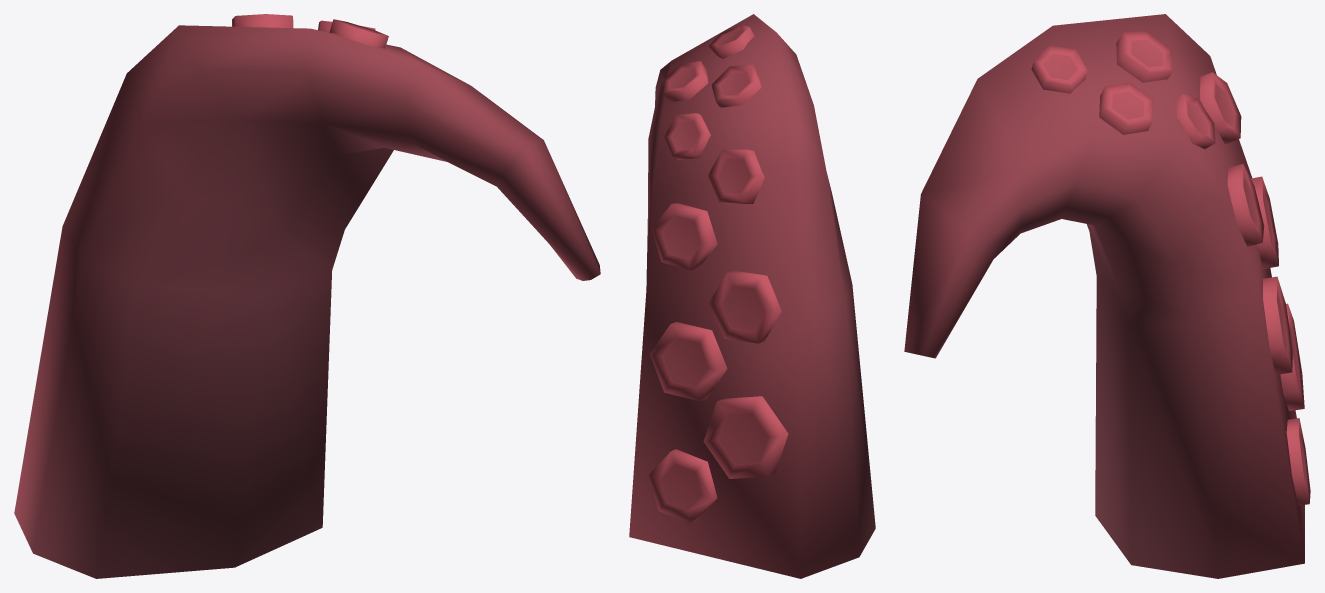
The model's file is OctopusTentacle.fbx.
3 views of the same model, side by side, from view 1: azimuth 30°, elevation 25°; view 2: azimuth 150°, elevation 25°; view 3: azimuth 270°, elevation 25° (orthographic). The views are drawn at different scales.
Visible parts, largest first — view 1: OctopusTentacle; view 2: OctopusTentacle; view 3: OctopusTentacle.
Part boxes in pixels (x1,y1,x2,y2): OctopusTentacle: (14, 14, 600, 578); OctopusTentacle: (629, 14, 875, 578); OctopusTentacle: (904, 14, 1310, 578).
Bounding box in the file's own units: 10.89 × 13.74 × 9.83.
